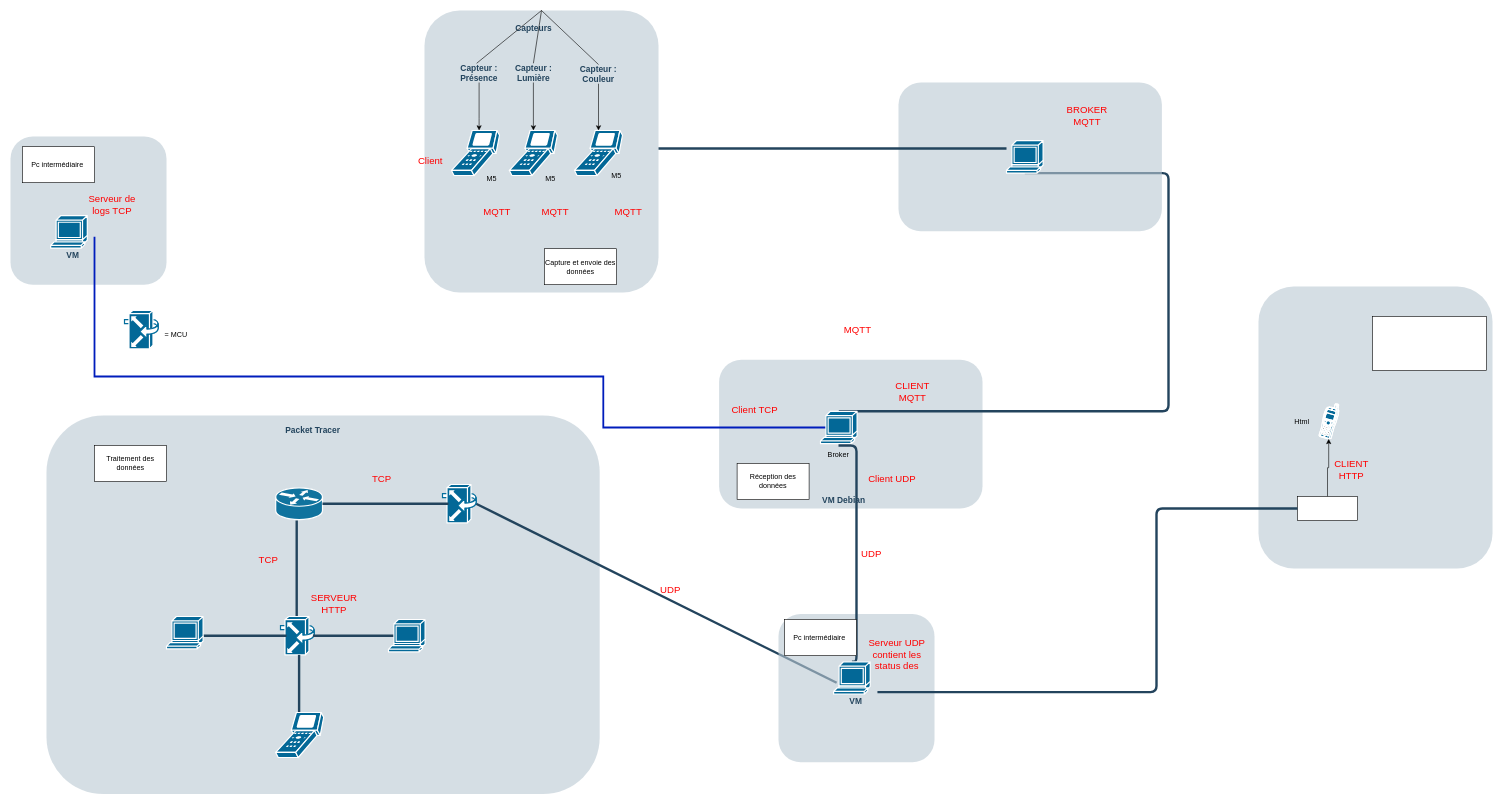
Image size: 1502x805. Some labels were removed from this diagram. Here are the shapes that lost their labels. From the top down, the centre of each, then its label:
At (1429,343): "Affichage et Réception pour l'utilisateur".
At (1327,508): "API Telegram".
